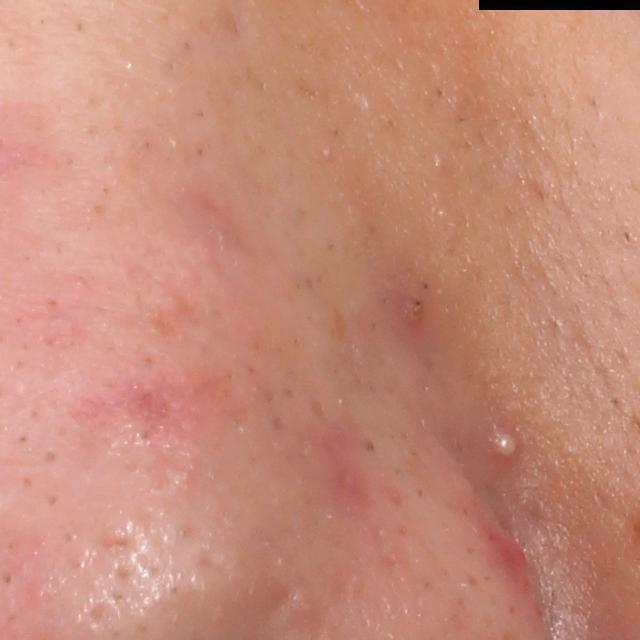pustule: (489, 427, 519, 462)
